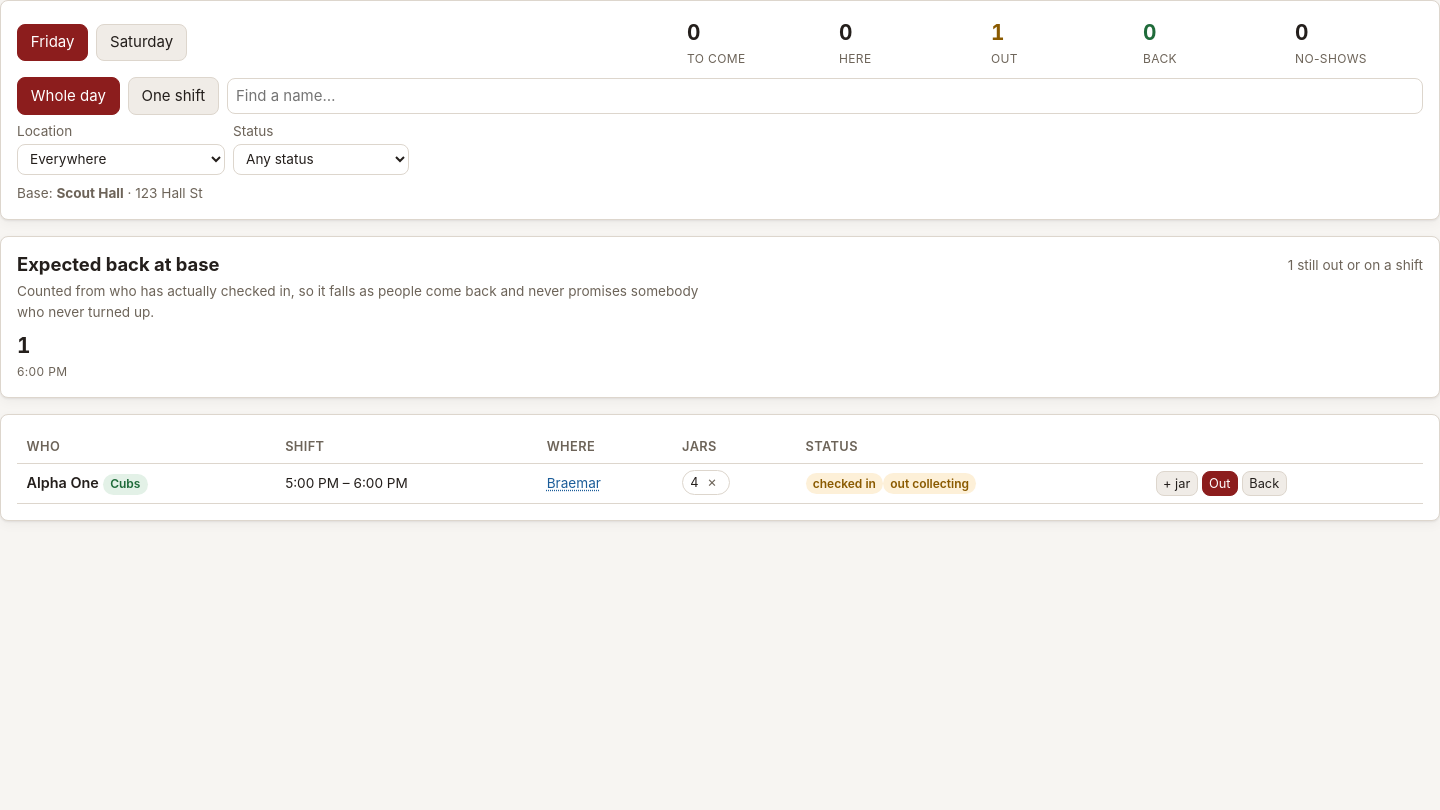
Test: taking a jar back › reports a failure rather than appearing to have worked
This screenshot has width=1440, height=810.
Click the button named "Take jar 4 back from Alpha One".
click(712, 482)  # box [703,475,721,490]
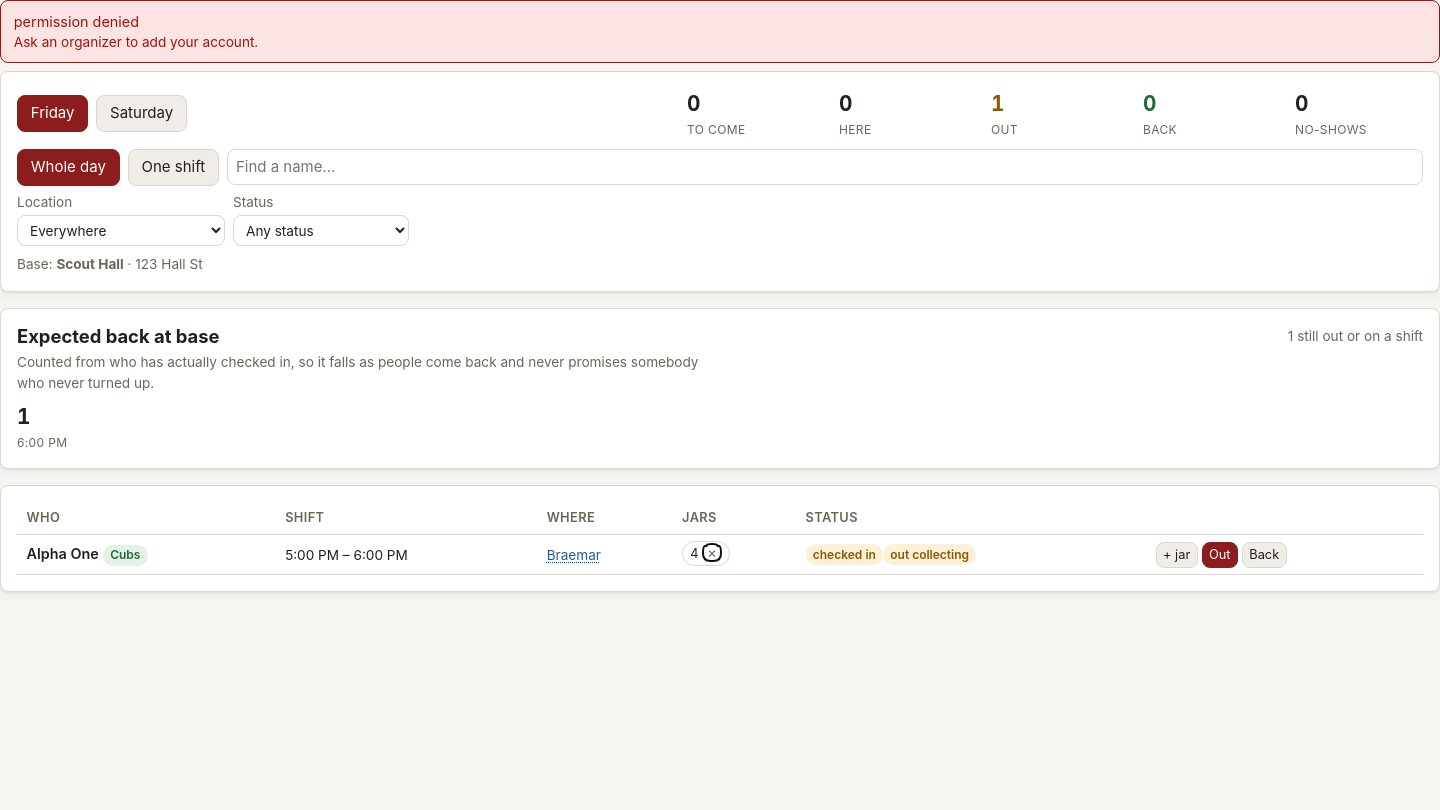
Expected: the text "permission denied Ask an organizer to add your account." is shown, [0,0,1439,63]
